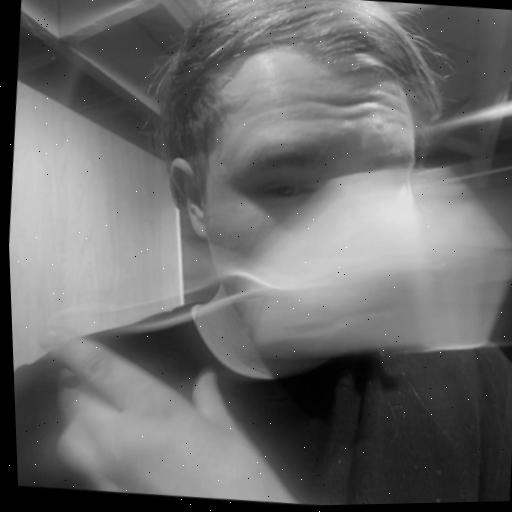mask: (143, 0, 477, 373)
